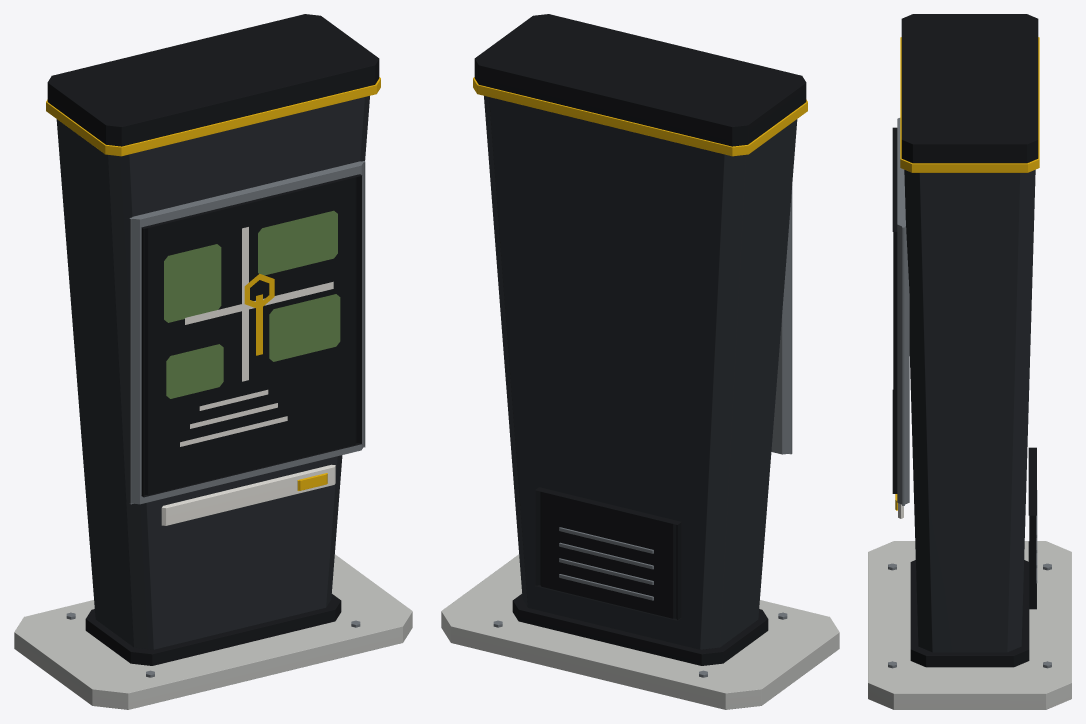
Rendered from PROP_INFO_KIOSK_01.glb.
3 renders of one model, left to right at view 1: azimuth 30°, elevation 25°; view 2: azimuth 150°, elevation 25°; view 3: azimuth 270°, elevation 25°, orthographic. The views are drawn at different scales.
Visible parts, largest first — view 1: CIVRUM_GAME_PROP_INFO_KIOSK_01; view 2: CIVRUM_GAME_PROP_INFO_KIOSK_01; view 3: CIVRUM_GAME_PROP_INFO_KIOSK_01.
Boxes of the visible parts, <box> form: CIVRUM_GAME_PROP_INFO_KIOSK_01: <box>14,14,412,709</box>; CIVRUM_GAME_PROP_INFO_KIOSK_01: <box>441,14,839,709</box>; CIVRUM_GAME_PROP_INFO_KIOSK_01: <box>868,14,1071,709</box>.
Size of the model in its own units: 1.4 by 2.37 by 0.79.
